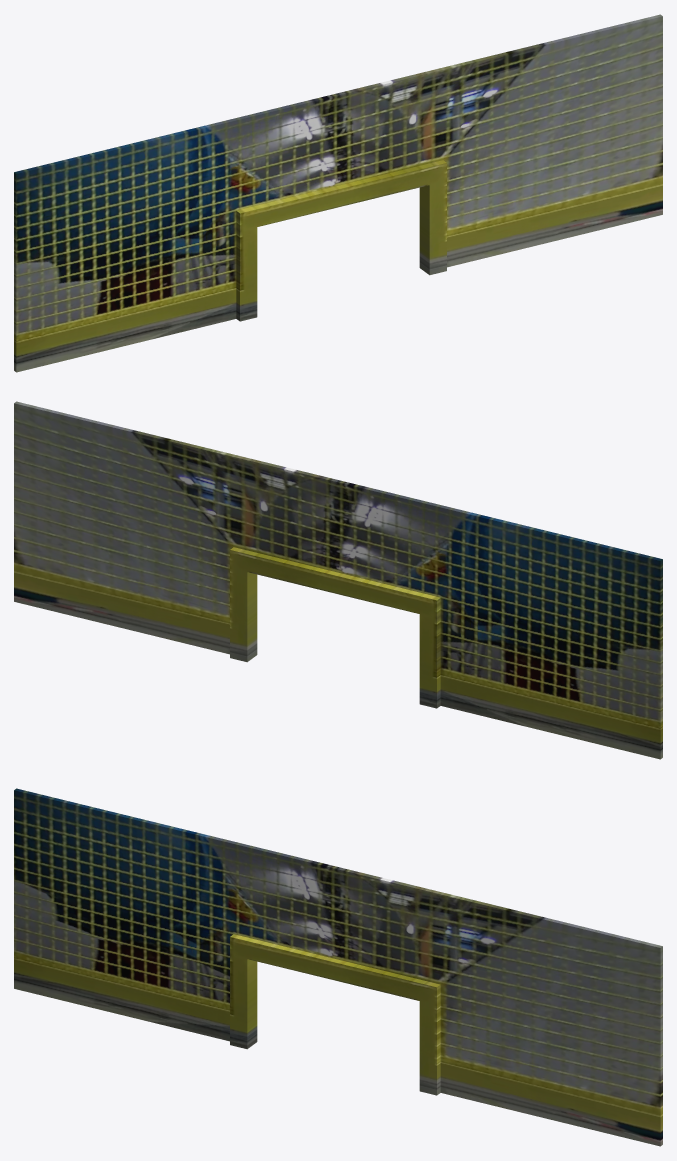
The model's file is gate.dae.
3 views of the same model, one above another, from view 1: azimuth 30°, elevation 25°; view 2: azimuth 150°, elevation 25°; view 3: azimuth 330°, elevation 25° (orthographic).
Visible parts, largest first — view 1: Fakegate2; view 2: Fakegate2; view 3: Fakegate2.
Boxes of the visible parts, box(x1,y1,x2,y2) form: Fakegate2: box(14, 14, 662, 372); Fakegate2: box(14, 401, 662, 759); Fakegate2: box(14, 788, 662, 1146).
Size of the model in its own units: 1.5 by 0.04 by 0.44.
Materials: 1 (1 with a texture image).
